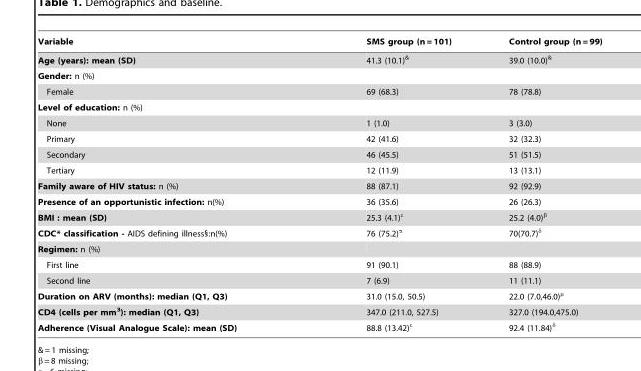table: (37, 36, 601, 332)
table column: (37, 36, 300, 332), (300, 36, 479, 332), (479, 36, 601, 332)
table column header: (37, 36, 601, 49)
table projected row header: (37, 67, 601, 83), (37, 99, 601, 115), (37, 241, 601, 256)
table row: (37, 49, 601, 67), (37, 224, 601, 241), (37, 67, 601, 83), (37, 83, 601, 99), (37, 99, 601, 115), (37, 130, 601, 146), (37, 146, 601, 162), (37, 162, 601, 178), (37, 208, 601, 224), (37, 256, 601, 272), (37, 287, 601, 303), (37, 303, 601, 319), (37, 115, 601, 130), (37, 178, 601, 193), (37, 193, 601, 208), (37, 241, 601, 256), (37, 272, 601, 287), (37, 36, 601, 49), (37, 319, 601, 332)
